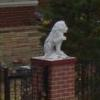Statue: (32, 16, 72, 62)
